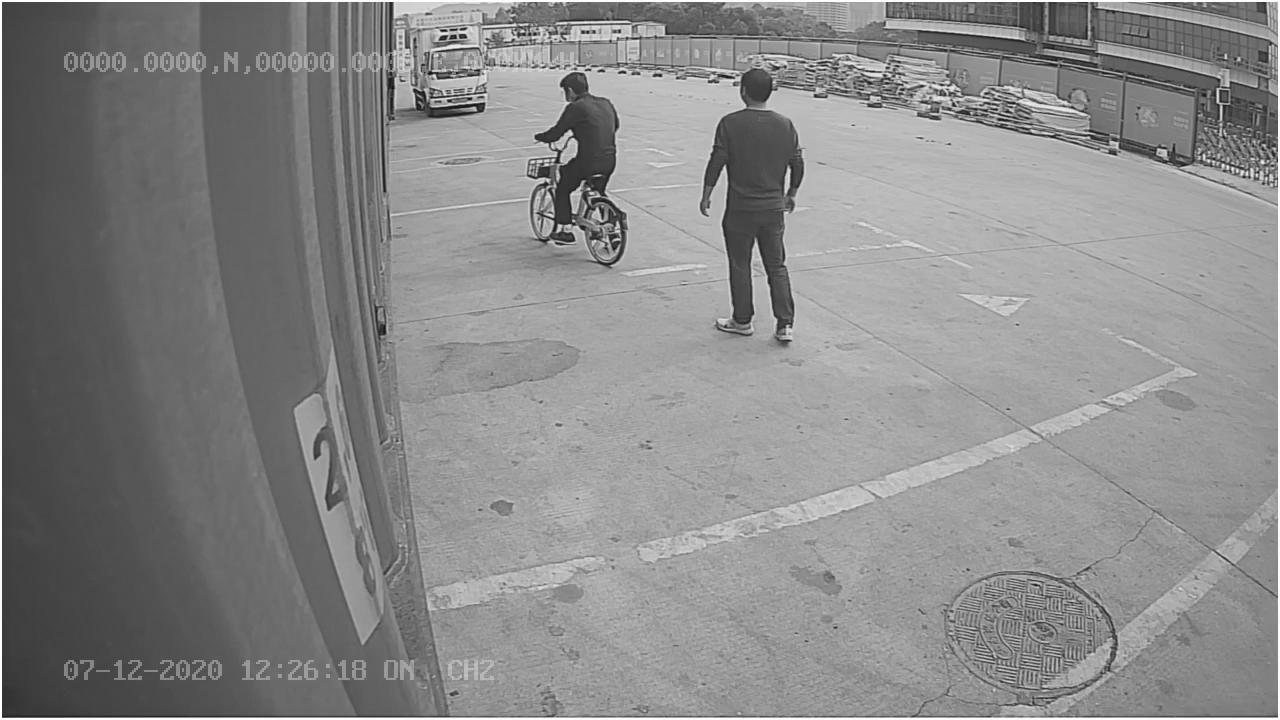person: (690, 67, 811, 345)
